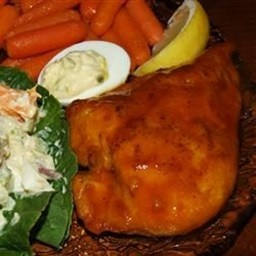background: (0, 0, 97, 102)
